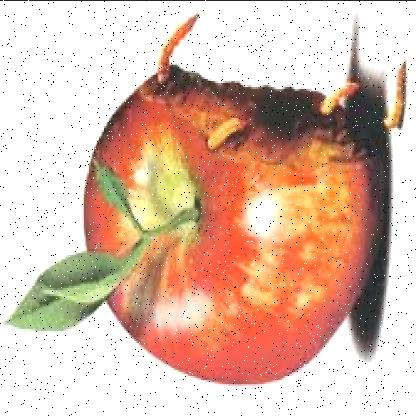damaged_apple: (78, 47, 384, 385)
